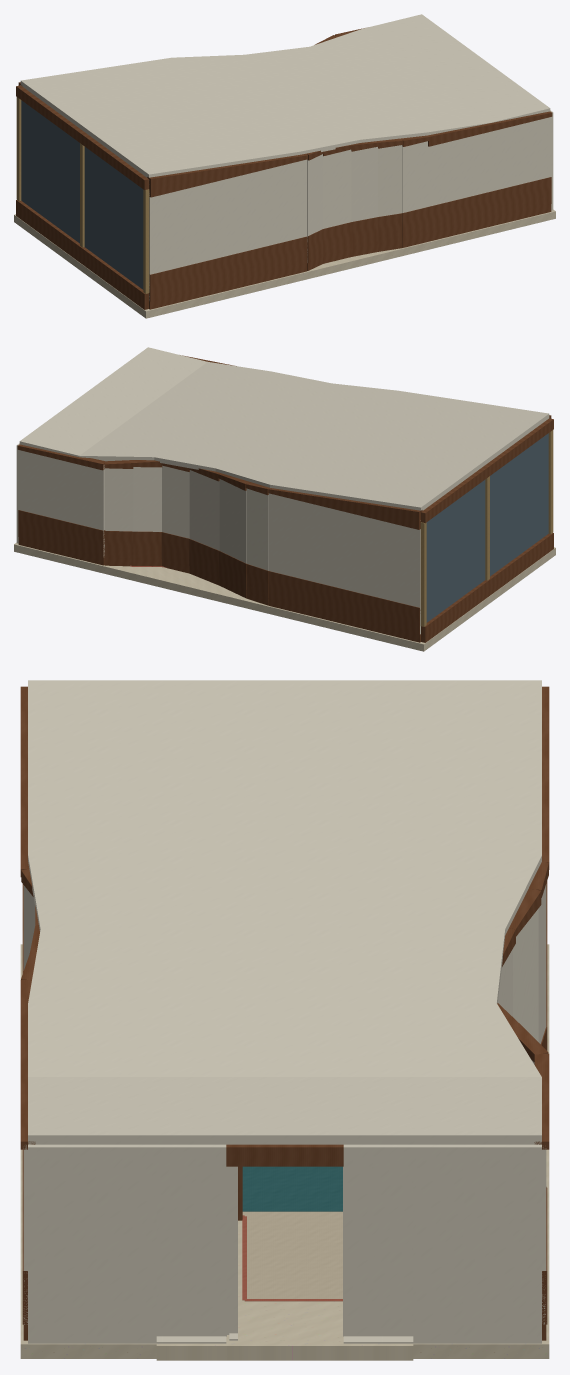
The model's file is STAR_ATLAS_D17_823_FITTED_r001.glb.
3 views of the same model, one above another, from view 1: azimuth 30°, elevation 25°; view 2: azimuth 150°, elevation 25°; view 3: azimuth 270°, elevation 25° (orthographic). The views are drawn at different scales.
Visible parts, largest first — view 1: SUI_Wall_L6, SUI_Ceiling_5, SUI_Ceiling_0, SUI_Ceiling_4, SUI_Wall_L0, SUI_Ceiling_3, SUI_Ceiling_1, SUI_Ceiling_2, SUI_WindowPane_-3.4, SUI_WindowPane_0.055, SUI_Floor, SUI_TimberWainscot_L6 (+20 smaller); view 2: SUI_Wall_R7, SUI_Ceiling_5, SUI_Ceiling_0, SUI_Ceiling_4, SUI_Ceiling_1, SUI_Ceiling_3, SUI_Ceiling_2, SUI_WindowPane_0.055, SUI_WindowPane_-3.4, SUI_Floor, SUI_Wall_R0, SUI_TimberWainscot_R7 (+22 smaller); view 3: SUI_Ceiling_5, SUI_Ceiling_4, SUI_Ceiling_3, SUI_Ceiling_1, SUI_Ceiling_0, SUI_Ceiling_2, SUI_EntryJamb_-3.5, SUI_EntryJamb_0.8, D17_823_PocketRearLeft, D17_823_PocketRearRight, SUI_Floor, SUI_FittedCarpet (+11 smaller).
Part boxes in pixels (box(x1,y1,x2,y2)): SUI_Wall_L6: box(149, 159, 307, 300); SUI_Ceiling_5: box(20, 67, 236, 177); SUI_Ceiling_0: box(362, 14, 550, 122); SUI_Ceiling_4: box(108, 57, 299, 164); SUI_Wall_L0: box(428, 117, 551, 206); SUI_Ceiling_3: box(172, 54, 360, 154); SUI_Ceiling_1: box(310, 29, 490, 135); SUI_Ceiling_2: box(244, 46, 426, 142); SUI_WindowPane_-3.4: box(84, 147, 143, 289); SUI_WindowPane_0.055: box(21, 100, 79, 243); SUI_Floor: box(14, 209, 555, 318); SUI_TimberWainscot_L6: box(149, 236, 307, 301); SUI_Wall_R7: box(269, 493, 420, 634); SUI_Ceiling_5: box(333, 400, 549, 510); SUI_Ceiling_0: box(19, 347, 207, 456); SUI_Ceiling_4: box(270, 390, 461, 497); SUI_Ceiling_1: box(79, 362, 270, 460); SUI_Ceiling_3: box(215, 383, 397, 487); SUI_Ceiling_2: box(154, 371, 331, 471); SUI_WindowPane_0.055: box(426, 480, 485, 622); SUI_WindowPane_-3.4: box(490, 433, 548, 576); SUI_Floor: box(14, 542, 555, 651); SUI_Wall_R0: box(18, 450, 104, 556); SUI_TimberWainscot_R7: box(268, 571, 420, 634); SUI_Ceiling_5: box(28, 680, 541, 781); SUI_Ceiling_4: box(28, 781, 541, 855); SUI_Ceiling_3: box(28, 855, 541, 934); SUI_Ceiling_1: box(28, 1003, 541, 1076); SUI_Ceiling_0: box(28, 1077, 541, 1144); SUI_Ceiling_2: box(28, 929, 505, 1003); SUI_EntryJamb_-3.5: box(28, 1144, 226, 1343); SUI_EntryJamb_0.8: box(343, 1144, 541, 1343); D17_823_PocketRearLeft: box(343, 1166, 413, 1336); D17_823_PocketRearRight: box(156, 1166, 226, 1336); SUI_Floor: box(20, 944, 549, 1358); SUI_FittedCarpet: box(242, 1211, 342, 1298).
Size of the model in its own units: 12.95 by 4.26 by 7.2.
Materials: 59 (52 with a texture image).
